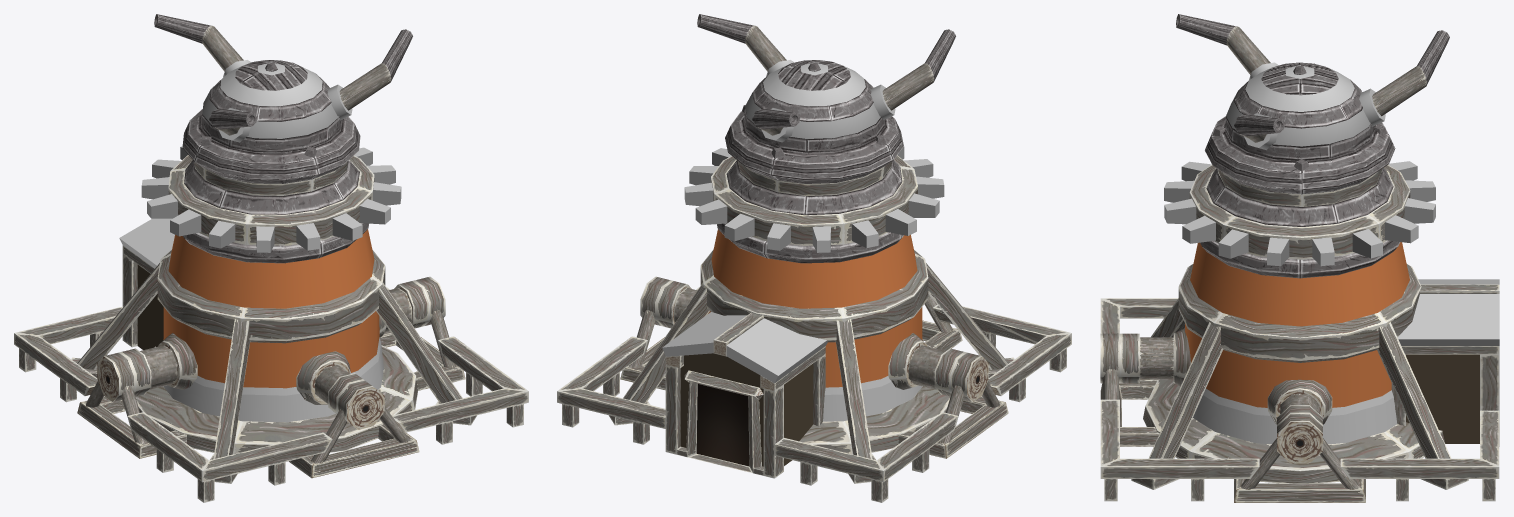
Rendered from Engine.IronTeeth.Model.fbx.
3 views of the same model, side by side, from view 1: azimuth 30°, elevation 25°; view 2: azimuth 150°, elevation 25°; view 3: azimuth 270°, elevation 25° (orthographic). The views are drawn at different scales.
Parts seen in each view (by area): view 1: Engine_IronTeeth, _BackCogMidleAnimated_005; view 2: Engine_IronTeeth, _BackCogMidleAnimated_005; view 3: Engine_IronTeeth, _BackCogMidleAnimated_005.
Boxes of the visible parts, box(x1,y1,x2,y2) form: Engine_IronTeeth: box(14, 218, 528, 502); _BackCogMidleAnimated_005: box(141, 14, 412, 252); Engine_IronTeeth: box(557, 223, 1071, 502); _BackCogMidleAnimated_005: box(684, 14, 955, 252); Engine_IronTeeth: box(1100, 240, 1499, 502); _BackCogMidleAnimated_005: box(1164, 14, 1449, 266).
Bounding box in the file's own units: 300 × 302 × 300.
